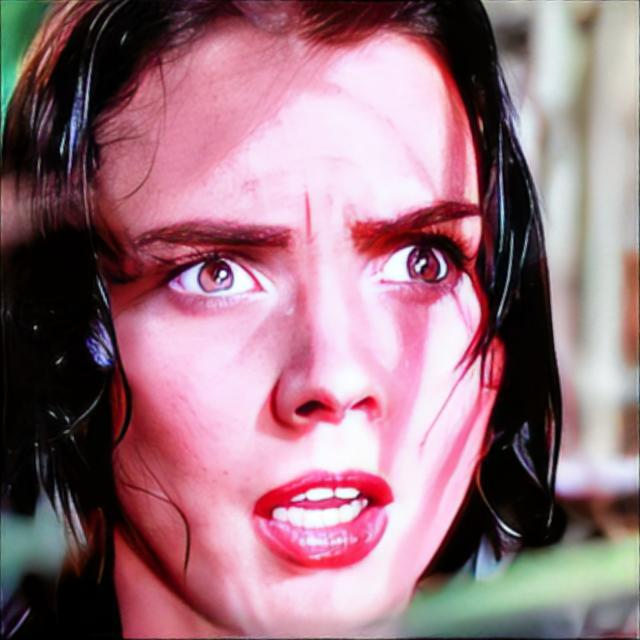fear: (108, 5, 506, 640)
